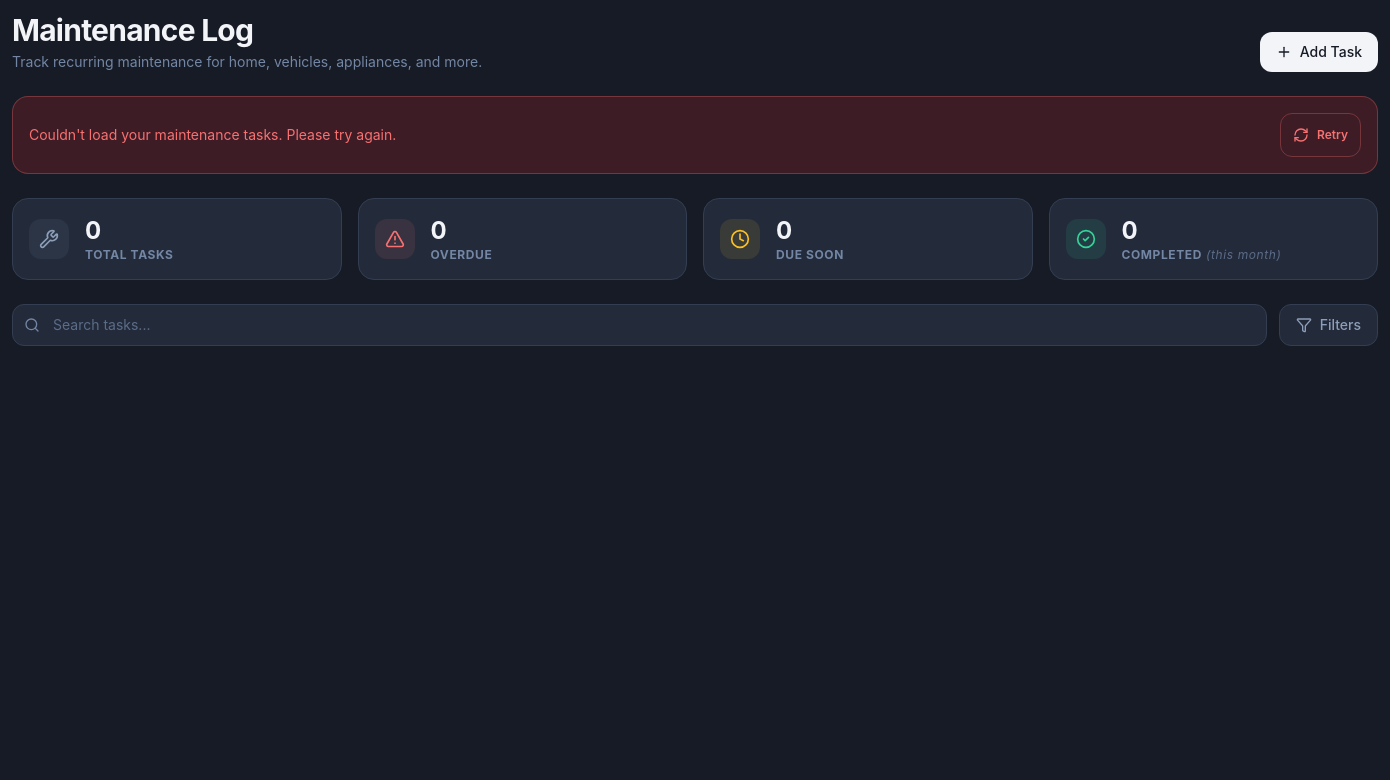
Test: MaintenanceAdminView › shows a retryable error instead of an empty state when loading fails
Expected: the message shows "Couldn't load your maintenance tasks", [29,126,396,143]
Click the button with aria-label "retry loading maintenance tasks". click: (1320, 135)
box: [1280,113,1361,157]
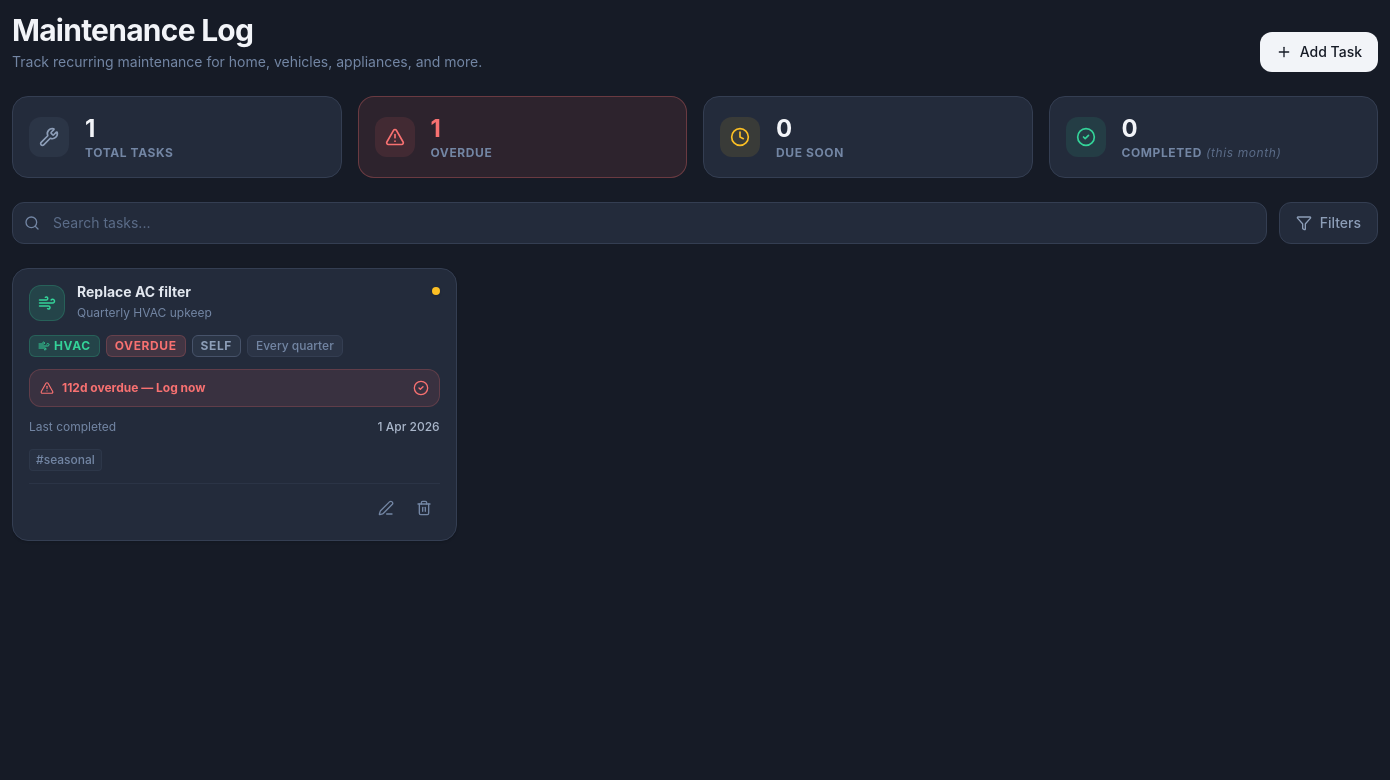
Expected: the heading "Replace AC filter" is shown, [77,283,191,300]
